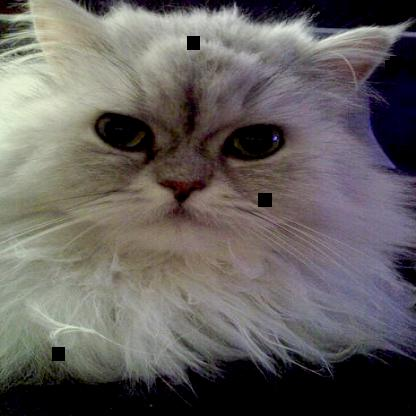cat: (0, 0, 409, 393)
